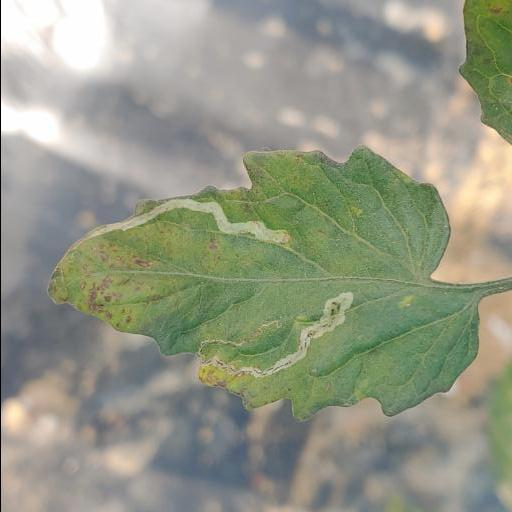Leaf Miner: (46, 141, 482, 424)
